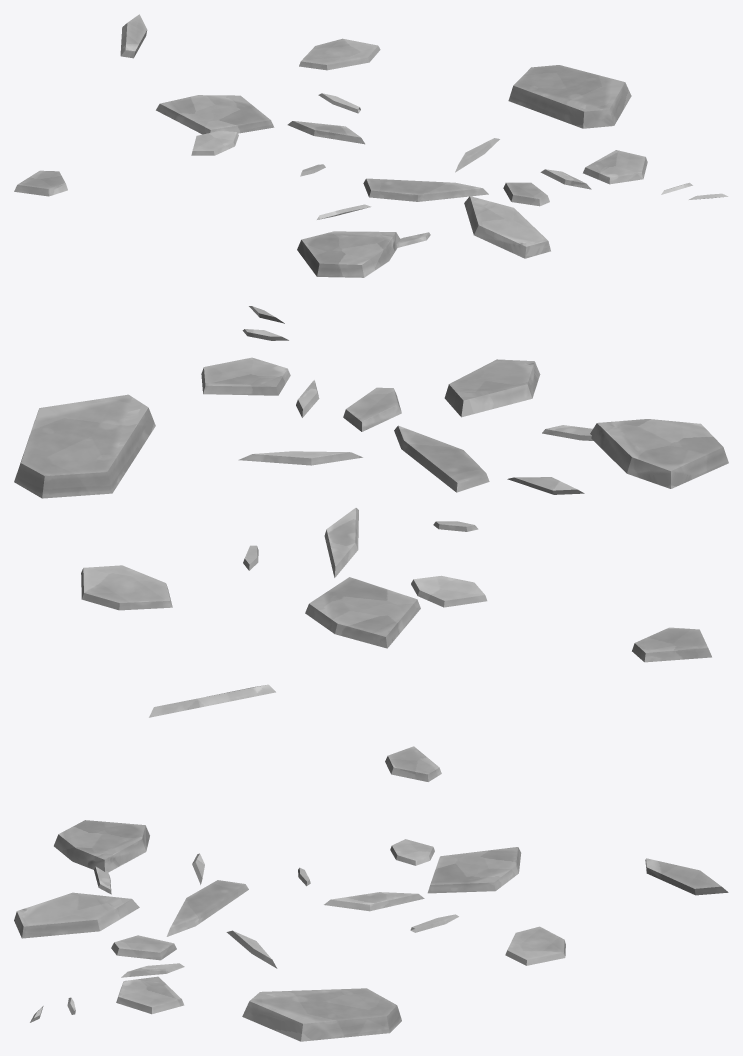
Rendered from sculpted_shards_04.glb.
3 views of the same model, one above another, from view 1: azimuth 30°, elevation 25°; view 2: azimuth 150°, elevation 25°; view 3: azimuth 270°, elevation 25° (orthographic). The views are drawn at different scales.
Parts seen in each view (by area): view 1: sculpted_shards_04; view 2: sculpted_shards_04; view 3: sculpted_shards_04.
Boxes of the visible parts, bbox=[...] form: sculpted_shards_04: bbox=[14, 14, 728, 277]; sculpted_shards_04: bbox=[14, 306, 728, 717]; sculpted_shards_04: bbox=[14, 746, 728, 1041].
Bounding box in the file's own units: 2.02 × 0.0855 × 2.12.
Materials: 1 (1 with a texture image).
